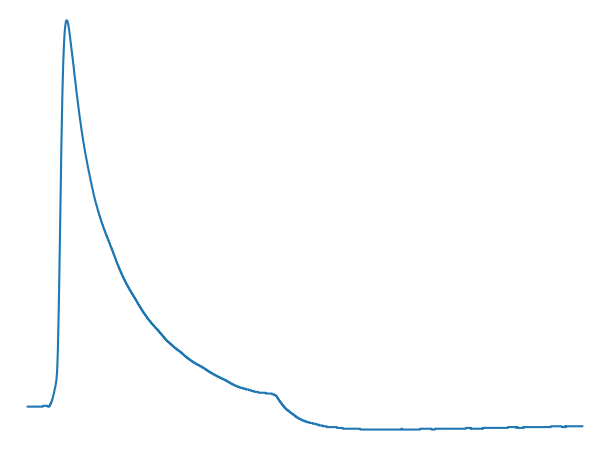decrease: (258, 385, 287, 406)
increase: (37, 386, 59, 413)
